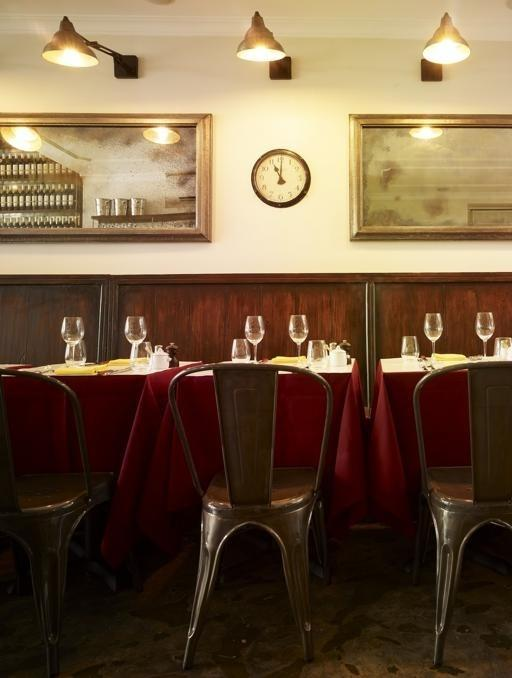clean: (23, 292, 191, 393), (215, 305, 372, 400), (390, 297, 512, 393)
